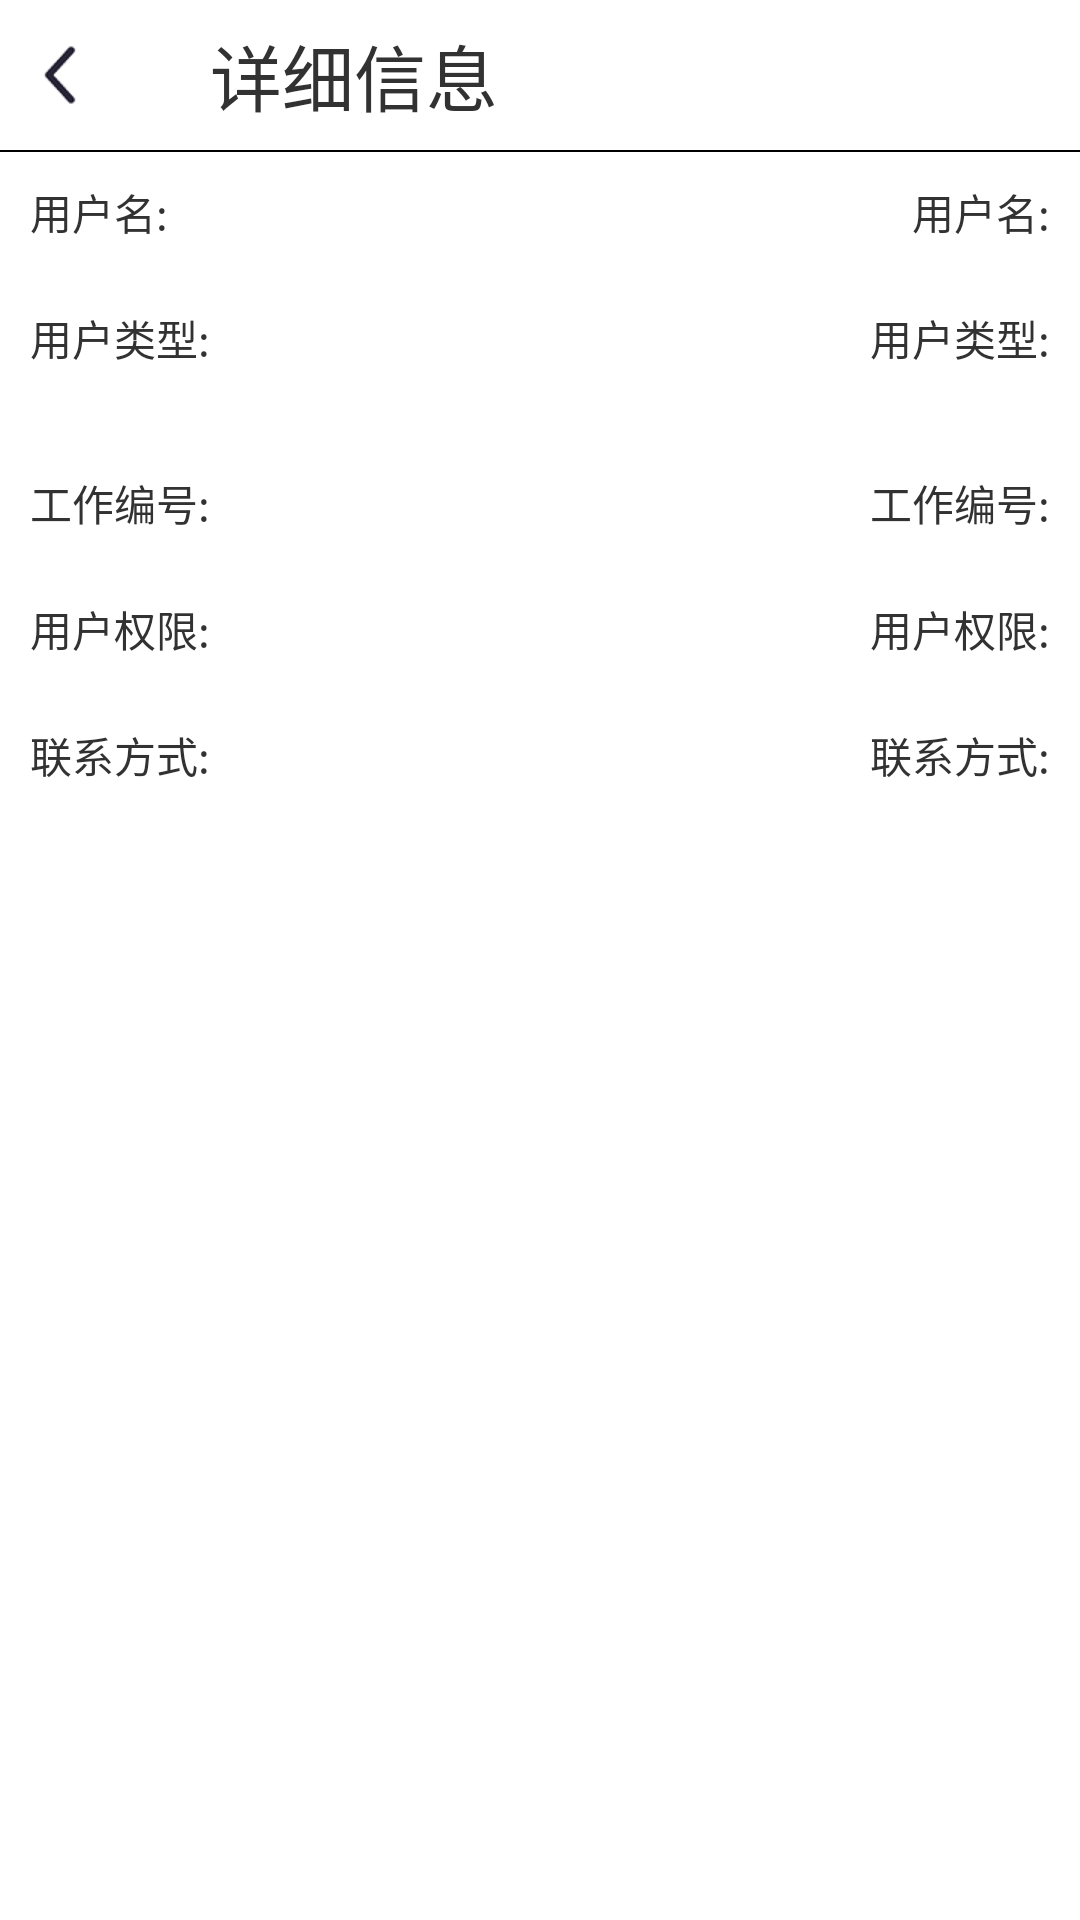

Screen size 1080w x 1920h. Icon name, then its box in pixels as {"x1": x1, "y1": y1, "x2": x2, "y2": y2}:
arrow back: {"x1": 44, "y1": 46, "x2": 76, "y2": 104}
